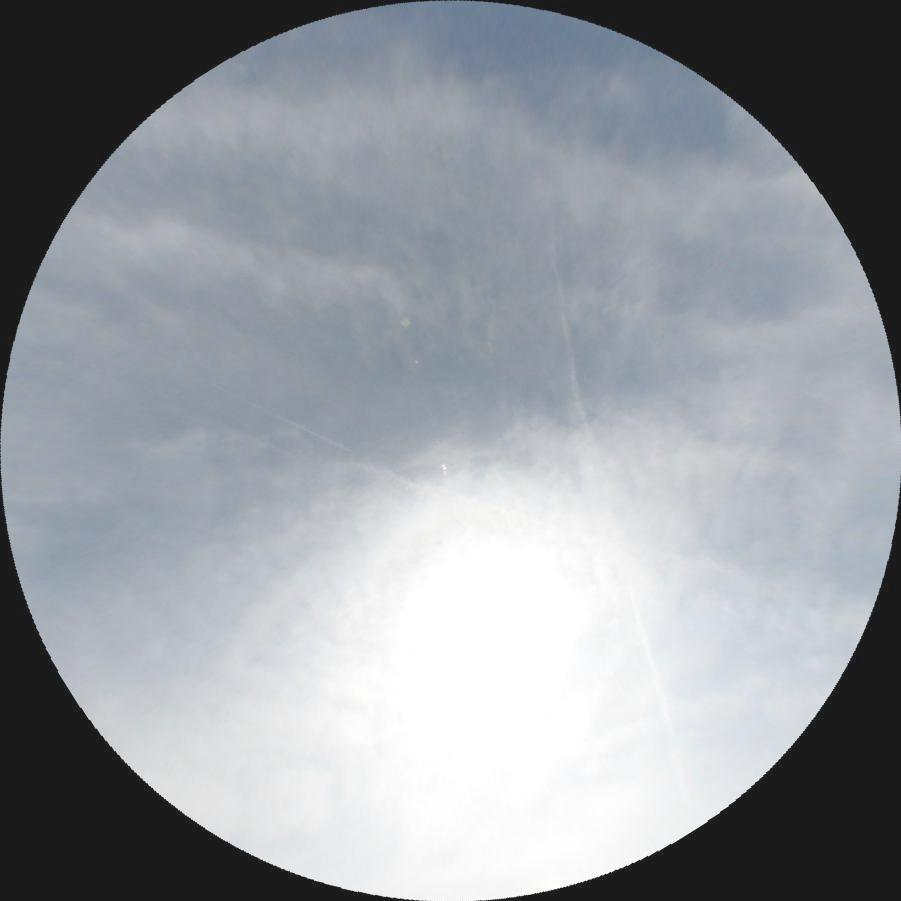contrail old: (527, 243, 685, 781)
contrail young: (223, 389, 353, 454)
sun: (399, 545, 577, 738)
